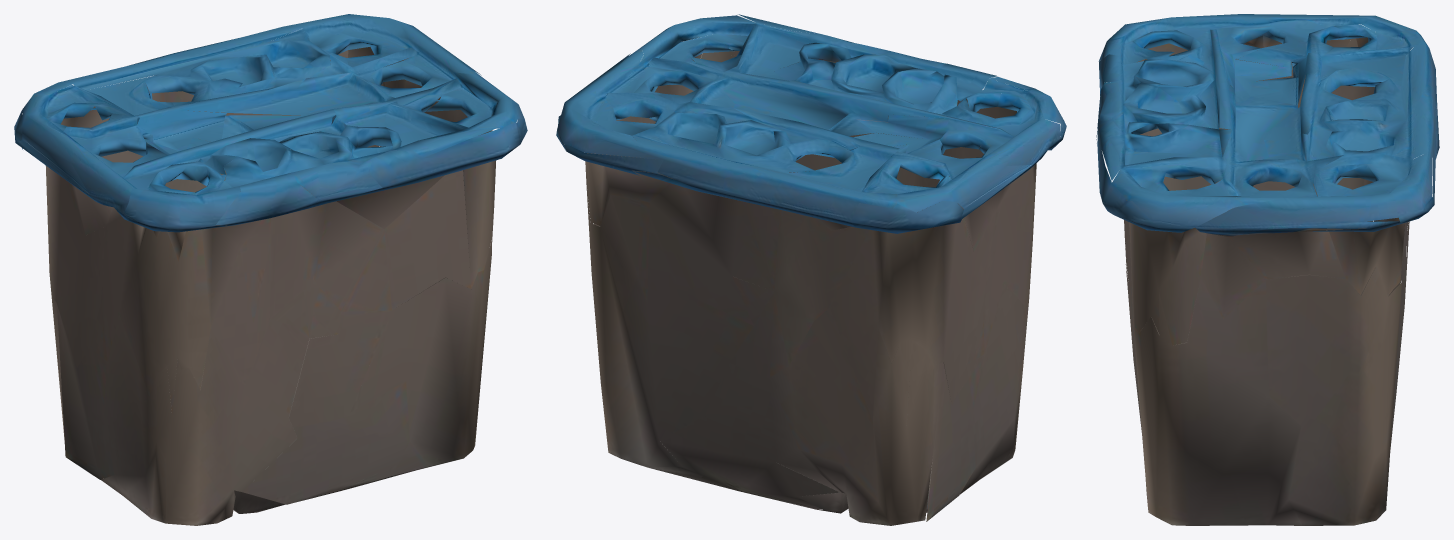
The model's file is recycle_bin.glb.
The picture shows the model from 3 angles, left to right: view 1: azimuth 30°, elevation 25°; view 2: azimuth 150°, elevation 25°; view 3: azimuth 270°, elevation 25°; orthographic projection.
Parts seen in each view (by area): view 1: tripo_node_34fa7bea-a91a-49e9-a425-2a3895684552; view 2: tripo_node_34fa7bea-a91a-49e9-a425-2a3895684552; view 3: tripo_node_34fa7bea-a91a-49e9-a425-2a3895684552.
Boxes of the visible parts, x1,y1,x2,y2 form: tripo_node_34fa7bea-a91a-49e9-a425-2a3895684552: (14,14,527,525); tripo_node_34fa7bea-a91a-49e9-a425-2a3895684552: (556,14,1066,525); tripo_node_34fa7bea-a91a-49e9-a425-2a3895684552: (1096,14,1439,525).
Size of the model in its own units: 0.2967 by 0.25 by 0.2194.
1 material, 1 textured.
